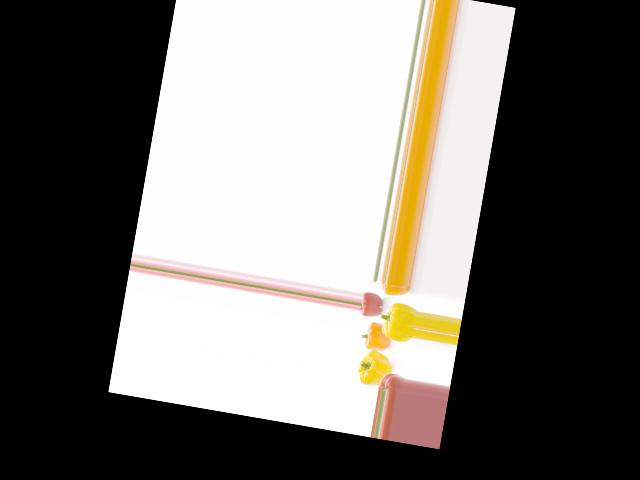bell_pepper: (377, 280, 410, 300)
